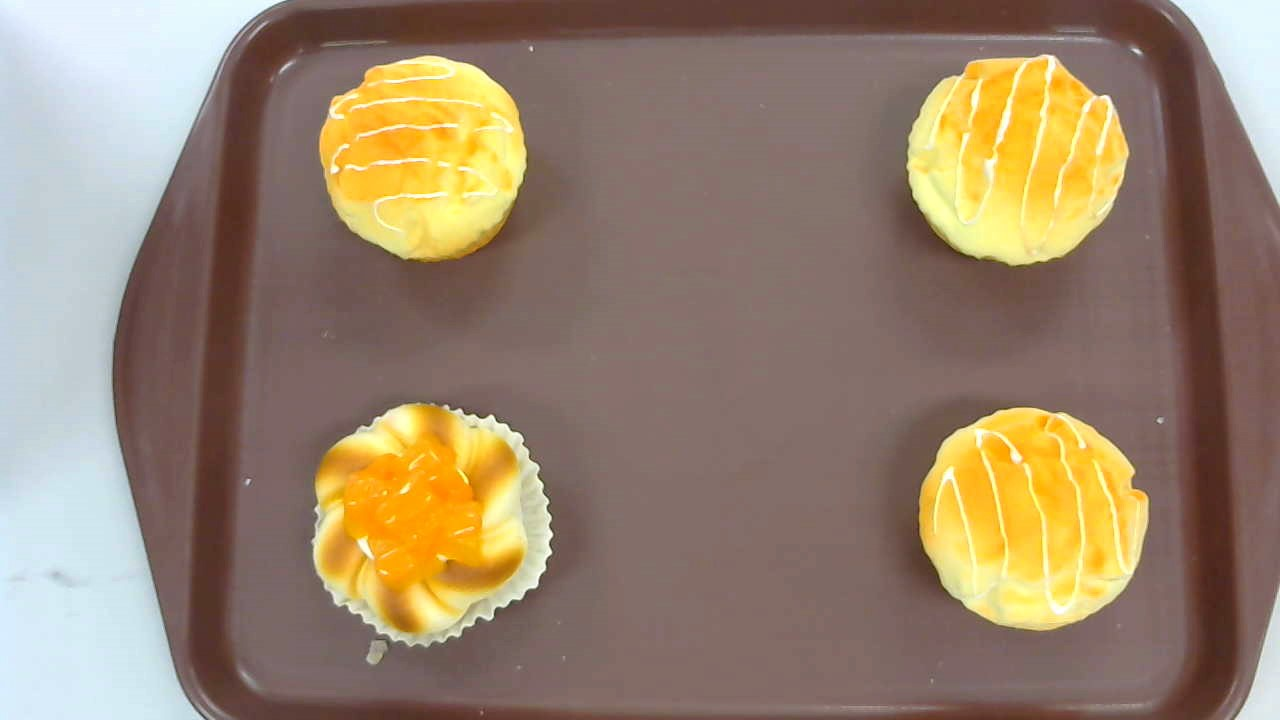cupcake: (918, 405, 1152, 633), (905, 53, 1130, 268), (319, 53, 528, 262)
mango tart: (310, 402, 553, 648)
